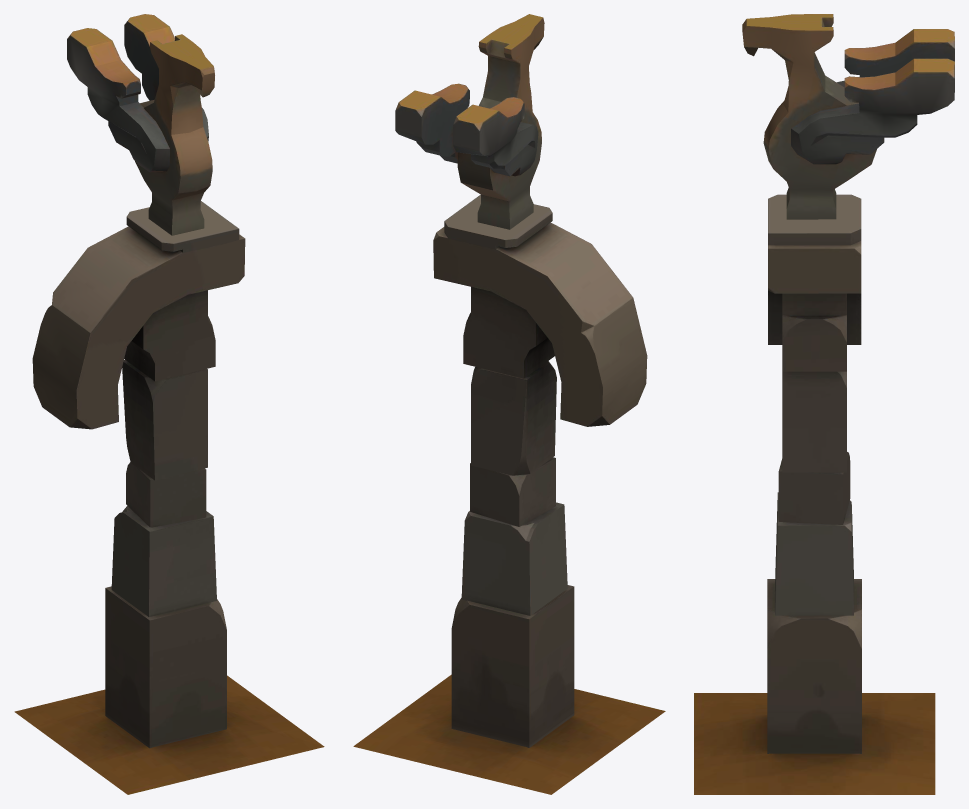
Rendered from OBJ_StoneDoor_03.obj.
3 views of the same model, side by side, from view 1: azimuth 30°, elevation 25°; view 2: azimuth 150°, elevation 25°; view 3: azimuth 270°, elevation 25° (orthographic). The views are drawn at different scales.
Visible parts, largest first — view 1: OBJ_StoneDoor_03, OBJ_Sculpture_05; view 2: OBJ_StoneDoor_03, OBJ_Sculpture_05; view 3: OBJ_StoneDoor_03, OBJ_Sculpture_05.
Part boxes in pixels (x1=…): OBJ_StoneDoor_03: x1=14, y1=201, x2=324, y2=794; OBJ_Sculpture_05: x1=67, y1=14, x2=214, y2=235; OBJ_StoneDoor_03: x1=353, y1=194, x2=665, y2=794; OBJ_Sculpture_05: x1=395, y1=14, x2=544, y2=229; OBJ_StoneDoor_03: x1=694, y1=194, x2=935, y2=794; OBJ_Sculpture_05: x1=742, y1=14, x2=954, y2=219.
Bounding box in the file's own units: 2.6 × 7.96 × 2.6.
Materials: 2 (2 with a texture image).
